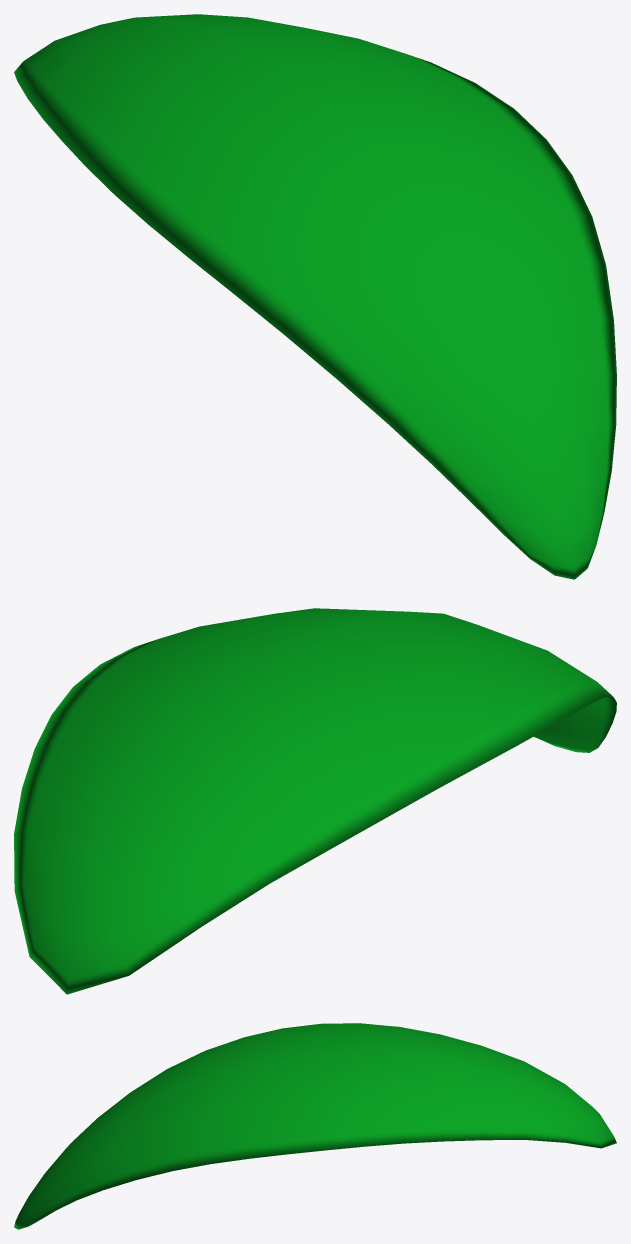
File: PalmPaper1.fbx
3 views of the same model, one above another, from view 1: azimuth 30°, elevation 25°; view 2: azimuth 150°, elevation 25°; view 3: azimuth 270°, elevation 25° (orthographic). The views are drawn at different scales.
Parts seen in each view (by area): view 1: PalmPaper1; view 2: PalmPaper1; view 3: PalmPaper1.
Boxes of the visible parts, x1,y1,x2,y2 form: PalmPaper1: (14, 14, 616, 579); PalmPaper1: (14, 608, 616, 994); PalmPaper1: (14, 1023, 616, 1229).
Size of the model in its own units: 0.7012 by 1.53 by 0.4869.
